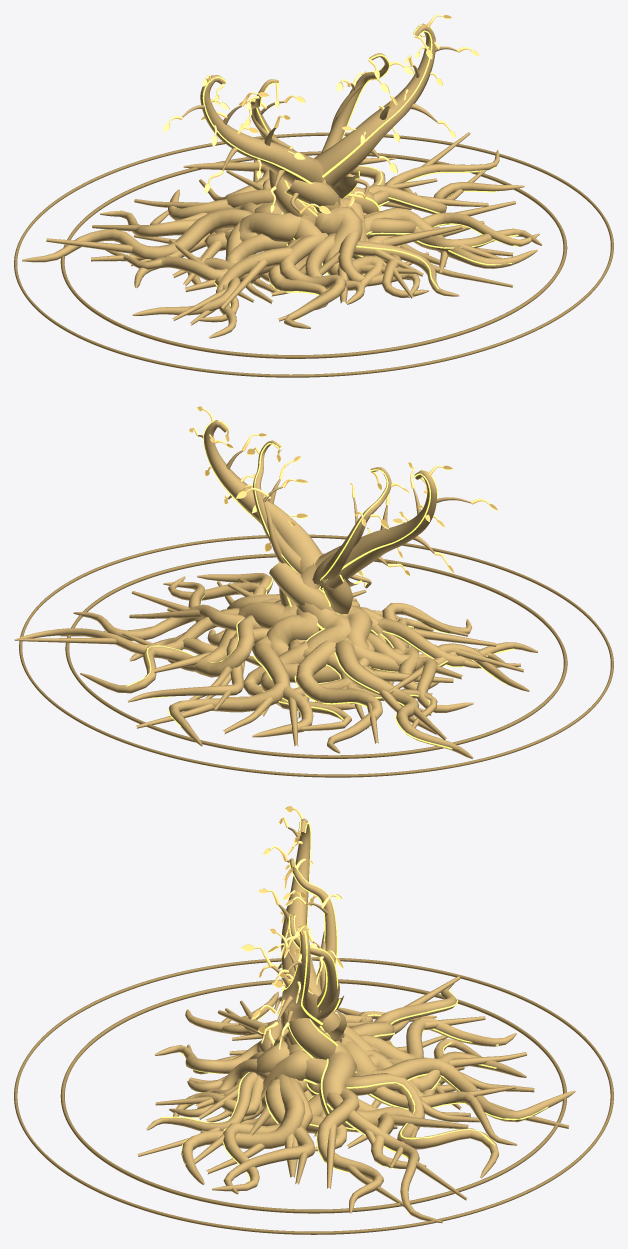
File: golden-roots.glb
The picture shows the model from 3 angles, top to bottom: view 1: azimuth 30°, elevation 25°; view 2: azimuth 150°, elevation 25°; view 3: azimuth 270°, elevation 25°; orthographic projection. The views are drawn at different scales.
Visible parts, largest first — view 1: roots, rings, leaves, veins; view 2: roots, rings, veins, leaves; view 3: roots, rings, veins, leaves.
Part boxes in pixels (<box>): roots: <box>22,23,542,338</box>; rings: <box>14,132,613,377</box>; leaves: <box>163,14,478,214</box>; veins: <box>128,24,518,320</box>; roots: <box>14,420,538,759</box>; rings: <box>19,534,613,777</box>; veins: <box>126,420,514,749</box>; leaves: <box>189,406,497,587</box>; roots: <box>137,818,575,1223</box>; rings: <box>14,957,613,1234</box>; veins: <box>160,820,548,1214</box>; leaves: <box>241,806,343,1049</box>.
Size of the model in its own units: 3.82 by 1.57 by 3.52.
